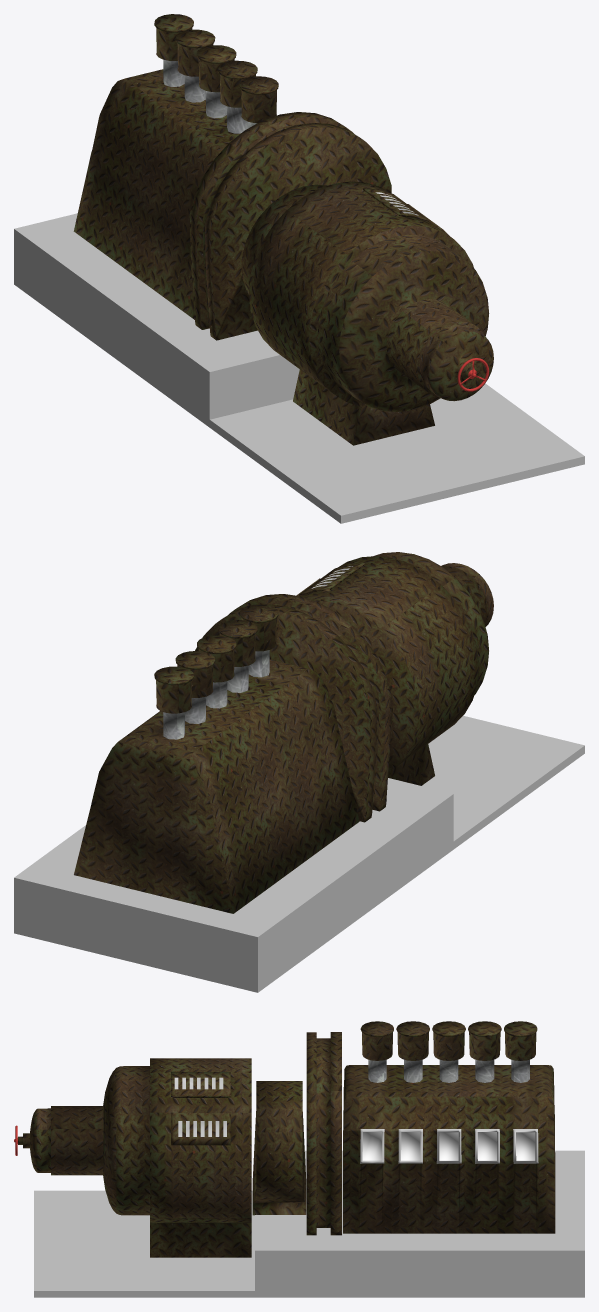
File: gerador2.fbx
3 views of the same model, one above another, from view 1: azimuth 30°, elevation 25°; view 2: azimuth 150°, elevation 25°; view 3: azimuth 270°, elevation 25° (orthographic). The views are drawn at different scales.
Parts seen in each view (by area): view 1: gerador2final; view 2: gerador2final; view 3: gerador2final.
Part boxes in pixels (left/top/right/bottom): gerador2final: left=14, top=14, right=584, bottom=523; gerador2final: left=14, top=552, right=584, bottom=992; gerador2final: left=14, top=1021, right=584, bottom=1297.
Size of the model in its own units: 200 by 204 by 481.
